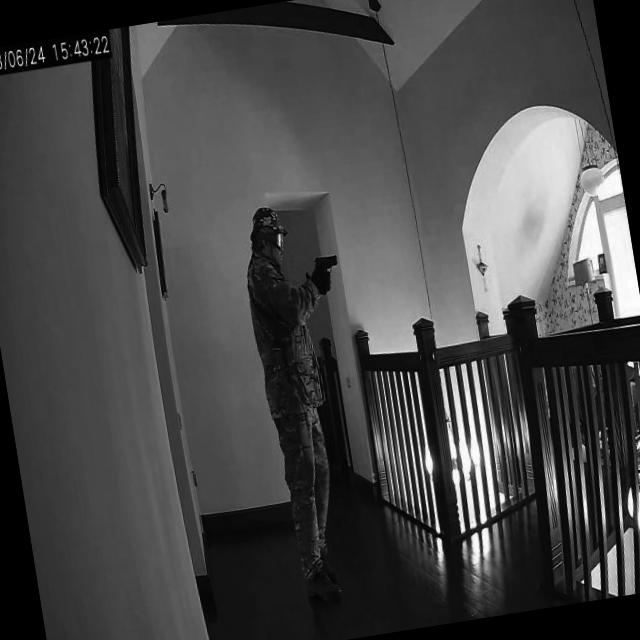gun: (310, 248, 344, 290)
person with a gun: (235, 196, 360, 611)
